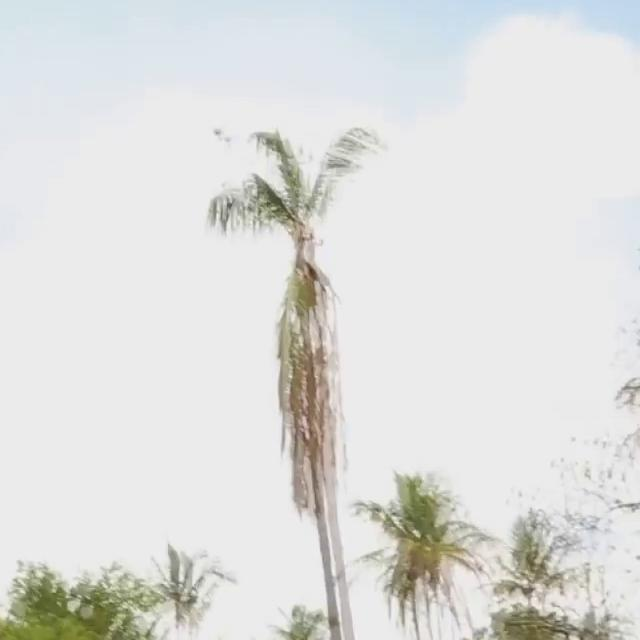drone: (212, 114, 239, 152)
